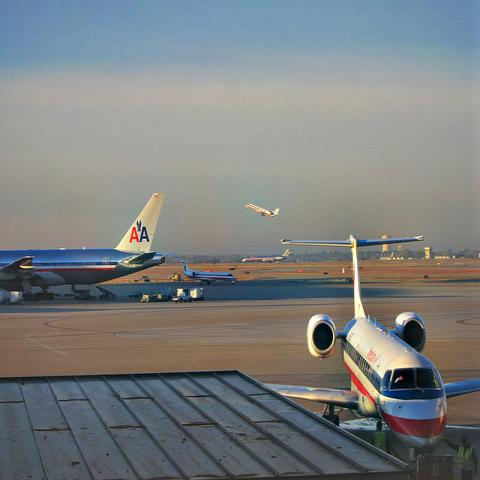truck: (173, 287, 192, 303), (190, 288, 204, 300)
